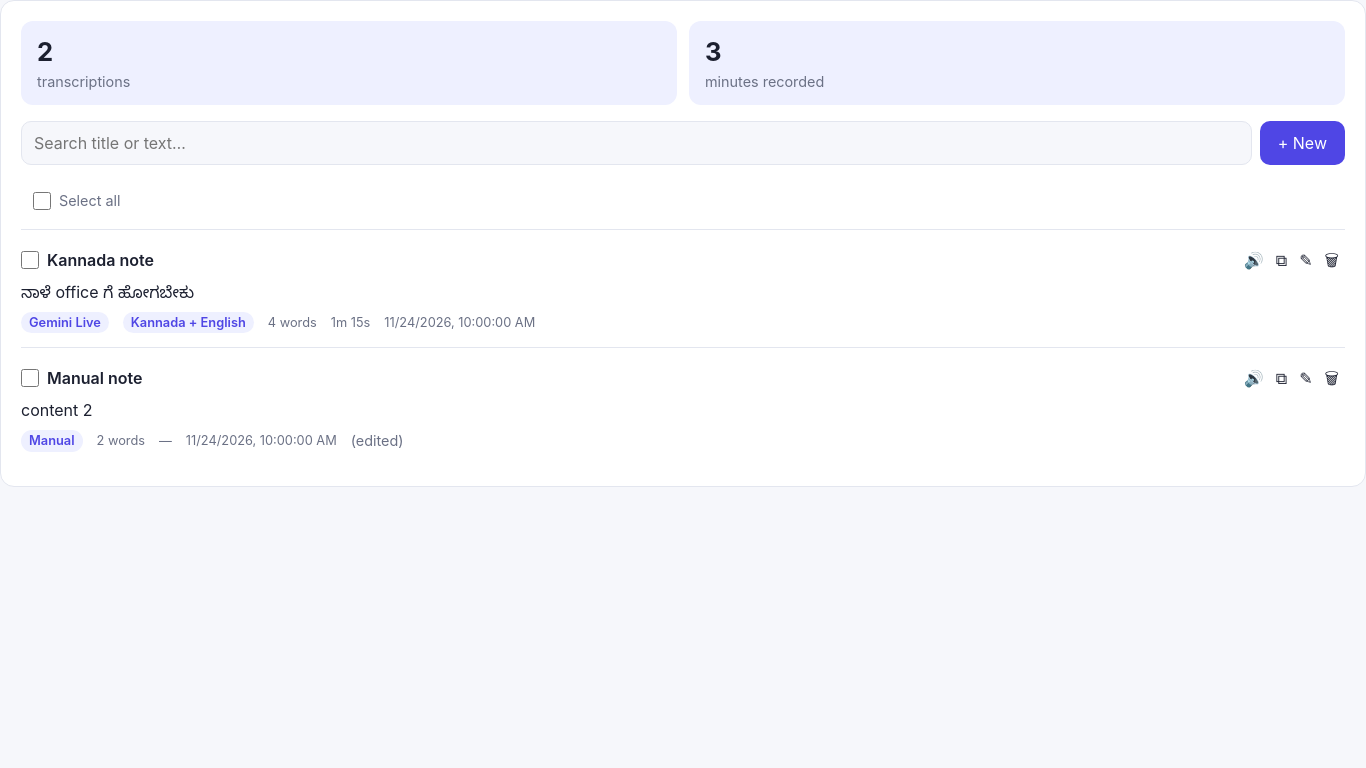
Test case: HistoryDashboard › shows delete errors
This screenshot has width=1366, height=768.
Expected: the button "Kannada note" is shown, left=47, top=248, right=1230, bottom=272
Click the 1st button titled "Delete" at (1332, 260), box left=1319, top=244, right=1345, bottom=276
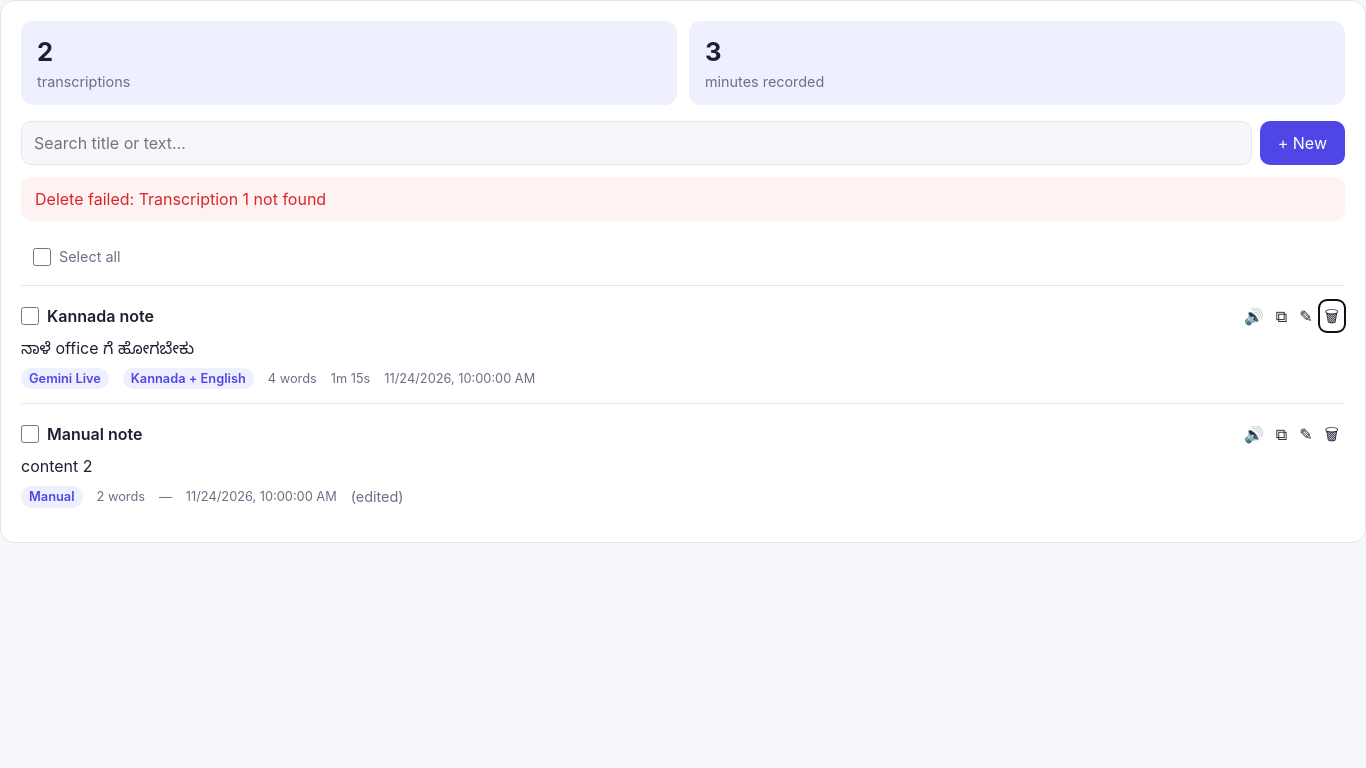
Result: the text "Delete failed: Transcription 1 not found" is shown at left=21, top=177, right=1345, bottom=221
